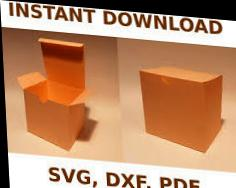cube: (139, 61, 226, 150)
